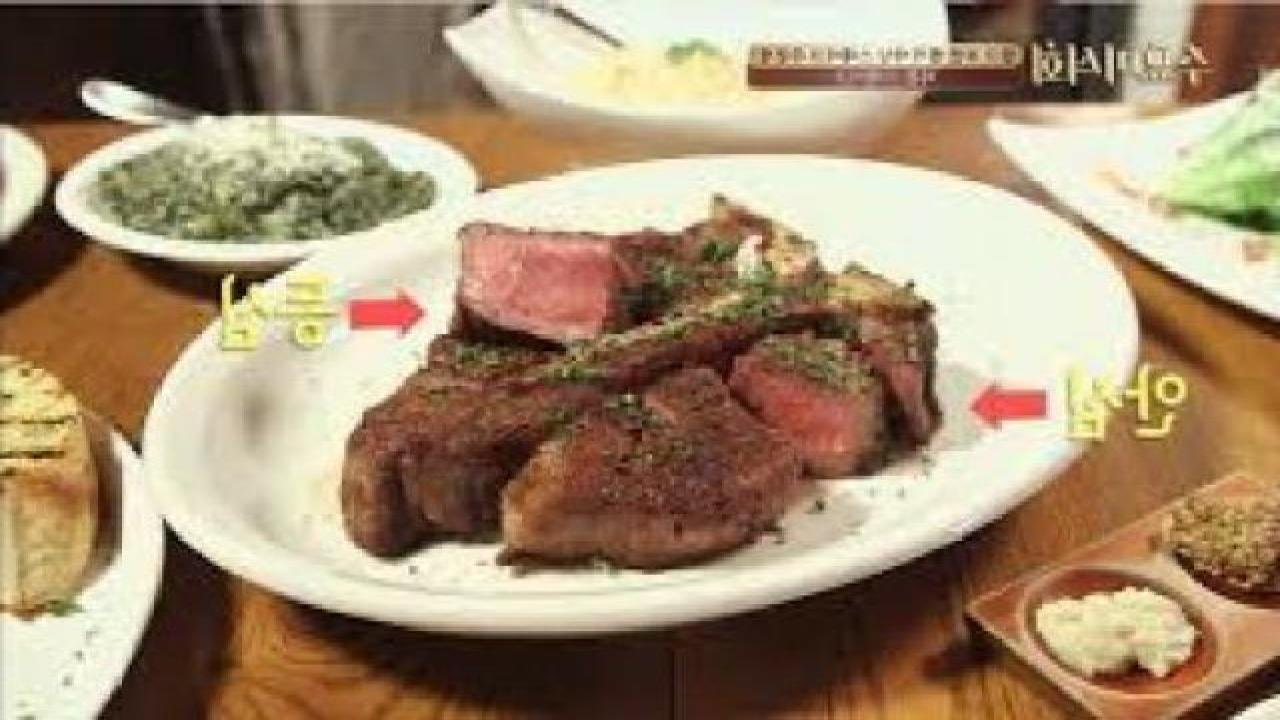Carne: (301, 338, 614, 572), (512, 375, 814, 576), (436, 200, 686, 340), (715, 328, 917, 477)
